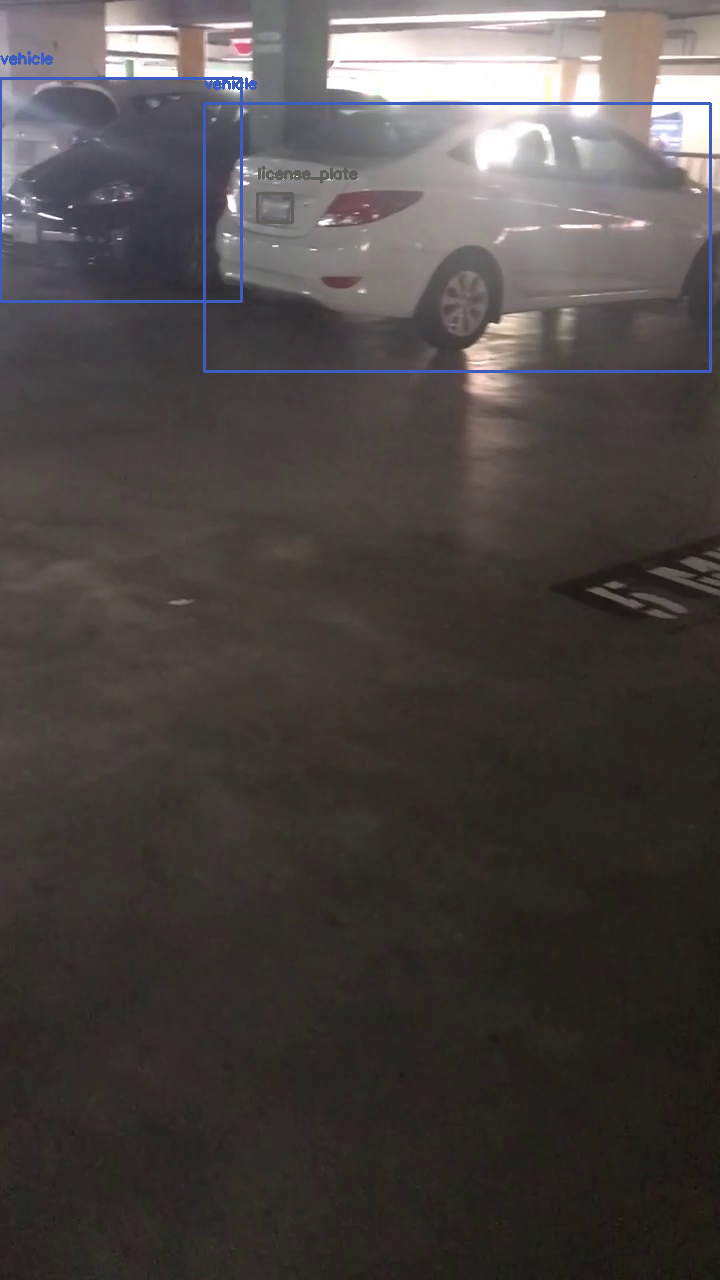license_plate: (257, 193, 292, 222)
vehicle: (204, 103, 710, 371), (0, 78, 241, 301)
